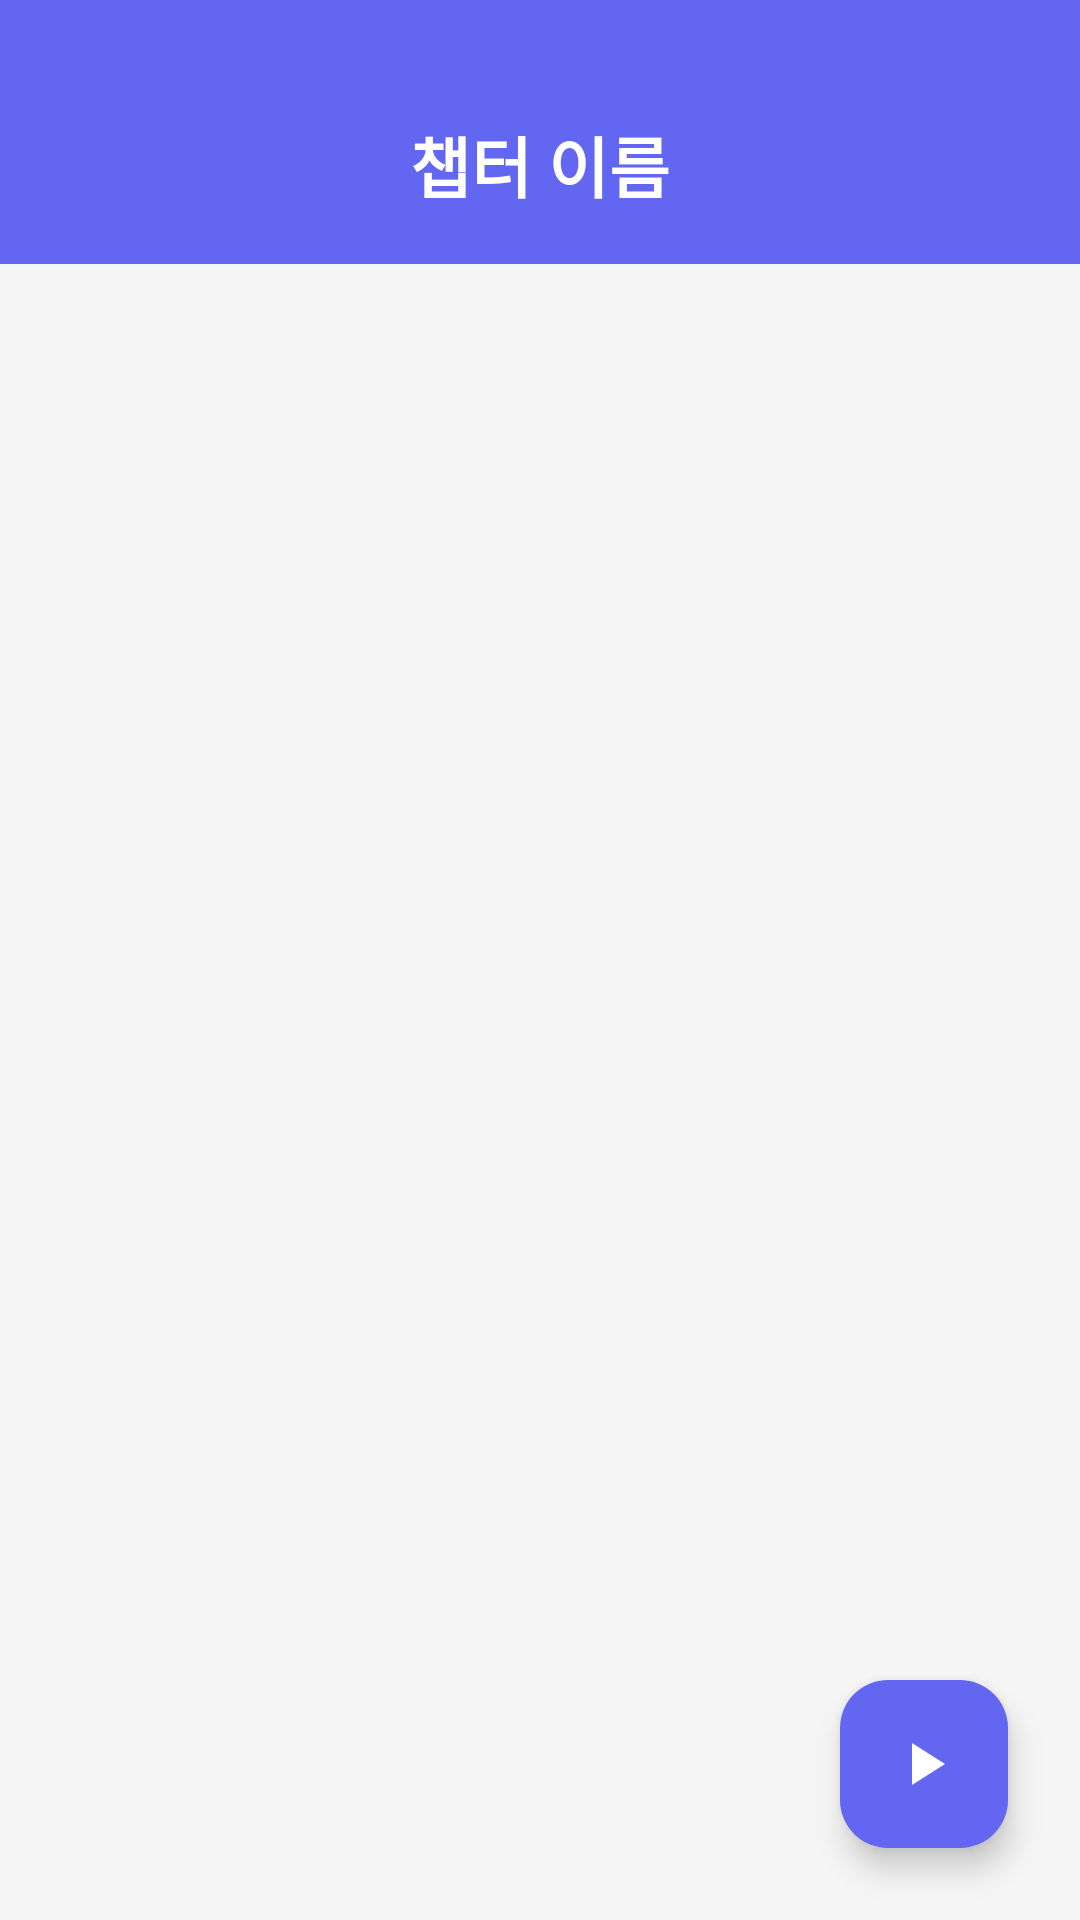

Icon click points for this 1080*1920 phone screenshot, format (x,y):
play arrow: (924,1764)
